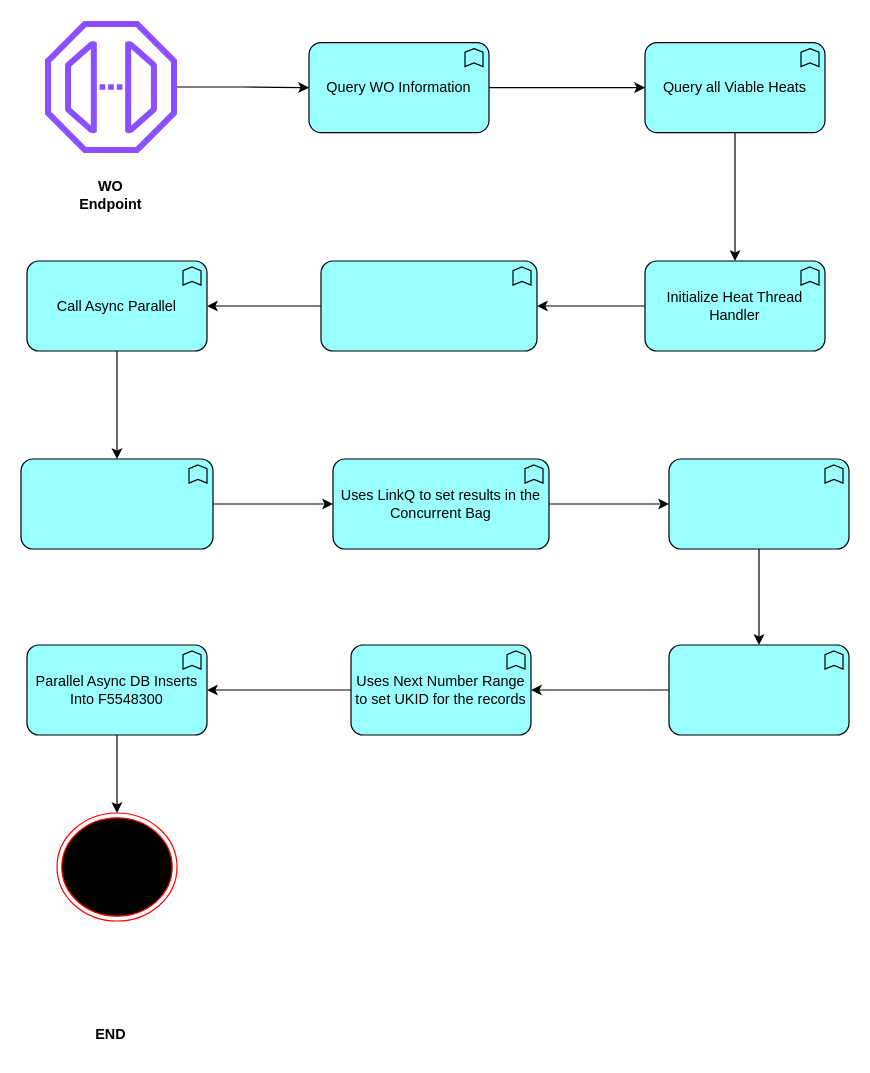
Some shapes in this 870 by 1073 pixel diagram are drawn without their labels. Here are the shapes that lost their labels. From the top down, the box of each, then its label:
(320, 260, 537, 351): Flatten Iterables, create Concurrent Bag return structure, set Constants
(20, 458, 213, 549): Async Parallel checks iterable check type and performs match checking
(668, 458, 849, 549): When match codes are finished, Delete Query records in F5548300 for that WO
(668, 644, 849, 735): Call Orch to get and set the NextNumber for F5548300
